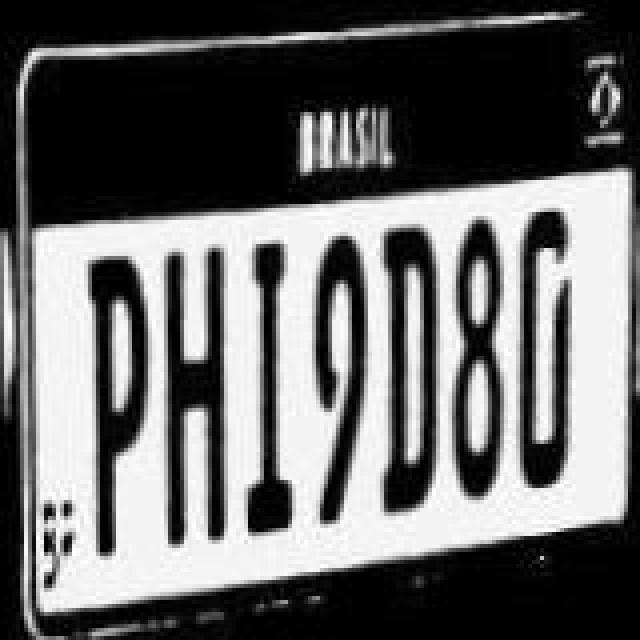8: (450, 220, 514, 508)
9: (306, 234, 370, 526)
D: (366, 220, 438, 520), (512, 208, 580, 492)
H: (158, 238, 234, 554)
I: (230, 238, 298, 542)
P: (78, 252, 154, 560)
